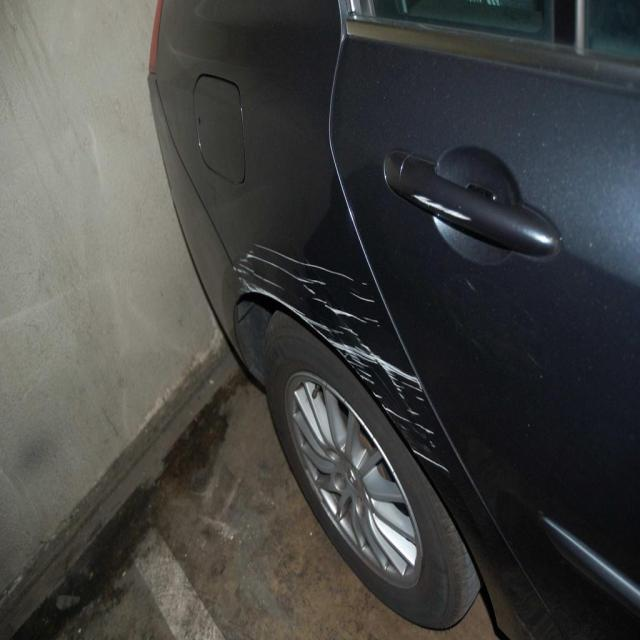Damage: (182, 214, 508, 515)
